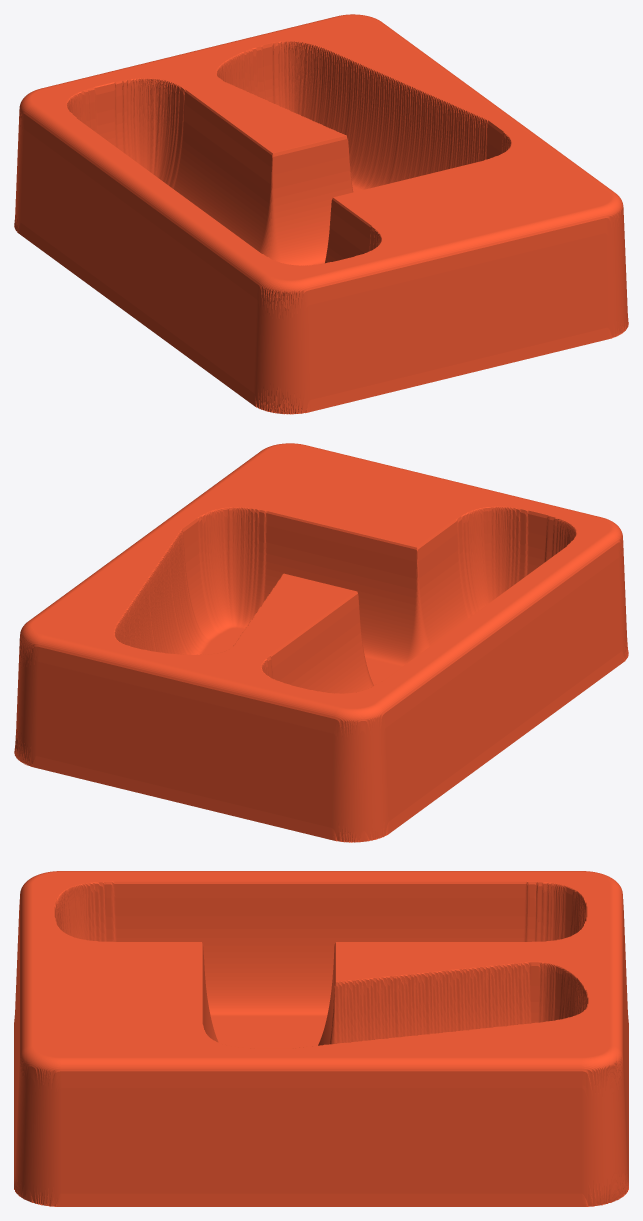
Rendered from mold.glb.
3 views of the same model, one above another, from view 1: azimuth 30°, elevation 25°; view 2: azimuth 150°, elevation 25°; view 3: azimuth 270°, elevation 25° (orthographic). The views are drawn at different scales.
Visible parts, largest first — view 1: geometry_0; view 2: geometry_0; view 3: geometry_0.
Part boxes in pixels (x1=…): geometry_0: x1=14, y1=14, x2=628, y2=414; geometry_0: x1=14, y1=443, x2=628, y2=842; geometry_0: x1=14, y1=871, x2=628, y2=1206.
Size of the model in its own units: 0.0912 by 0.0299 by 0.1178.
